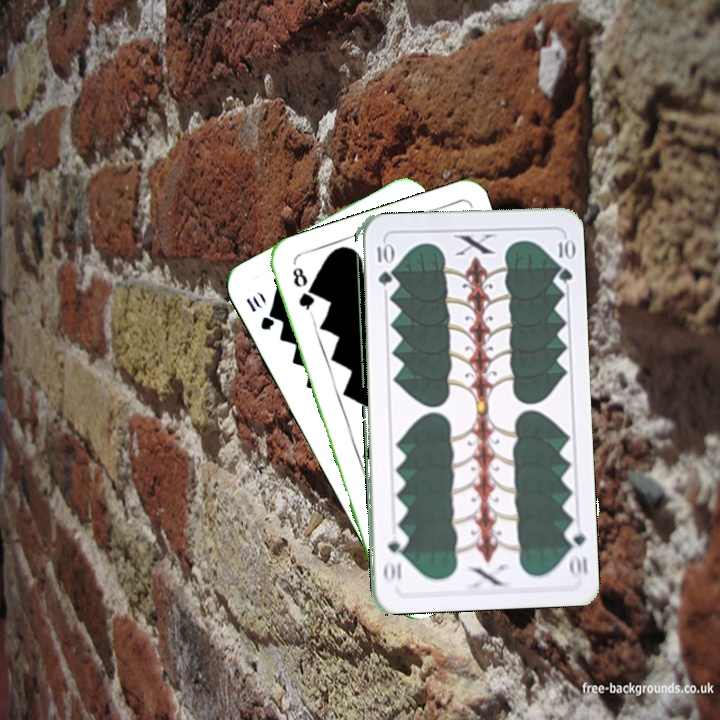G10: (561, 520, 590, 577), (242, 293, 277, 333), (373, 238, 391, 288)
G8: (288, 263, 318, 318)
